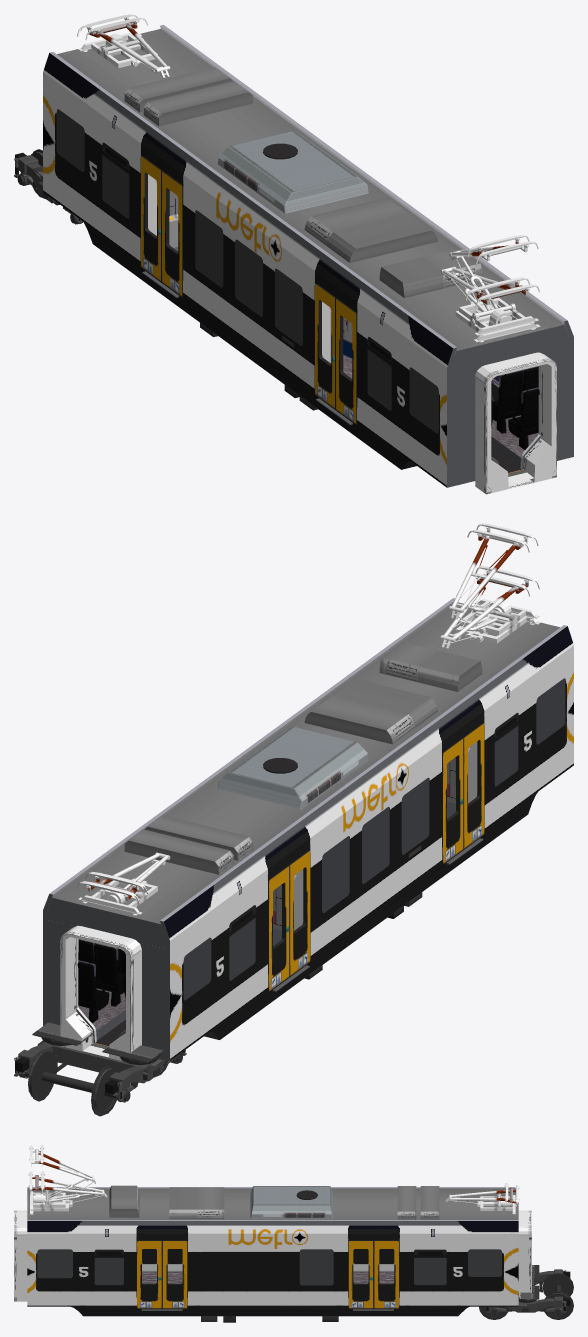
File: ns_sng_civity_p_denhofmetro.obj
The picture shows the model from 3 angles, top to bottom: view 1: azimuth 30°, elevation 25°; view 2: azimuth 150°, elevation 25°; view 3: azimuth 270°, elevation 25°; orthographic projection. The views are drawn at different scales.
Visible parts, largest first — view 1: side, aircon, jibung, glass, back_out, mak, door_RF, door_RB, chairs, panto6m, panto, dt71 (+3 smaller); view 2: side, aircon, jibung, glass, back_out, dt71, mak, door_RF, door_RB, panto6m, chairs, panto (+3 smaller); view 3: side, aircon, jibung, glass, door_LB, door_LF, dt71, mak, panto6m, panto, badak, door_RB_in (+3 smaller).
Boxes of the visible parts, x1,y1,x2,y2 form: side: (43, 24, 573, 487); aircon: (77, 14, 482, 297); jibung: (57, 29, 564, 350); glass: (57, 109, 438, 433); back_out: (451, 324, 569, 486); mak: (475, 352, 556, 494); door_RF: (161, 170, 356, 424); door_RB: (140, 156, 335, 409); chairs: (491, 366, 539, 449); panto6m: (449, 235, 538, 336); panto: (440, 266, 540, 342); dt71: (14, 149, 86, 227); side: (43, 598, 573, 1060); aircon: (77, 642, 482, 915); jibung: (52, 602, 559, 924); glass: (183, 678, 565, 1000); back_out: (47, 898, 165, 1059); dt71: (14, 1022, 186, 1116); mak: (60, 925, 141, 1061); door_RF: (289, 723, 484, 976); door_RB: (268, 737, 463, 991); panto6m: (449, 523, 539, 635); chairs: (77, 939, 125, 1022); panto: (440, 566, 540, 648); side: (27, 1187, 518, 1316); aircon: (109, 1183, 519, 1219); jibung: (27, 1190, 518, 1219); glass: (37, 1249, 501, 1285); door_LB: (162, 1240, 399, 1308); door_LF: (137, 1240, 373, 1308); dt71: (479, 1265, 573, 1319); mak: (14, 1210, 531, 1301); panto6m: (29, 1145, 95, 1211); panto: (28, 1171, 107, 1214); badak: (142, 1272, 394, 1283); door_RB_in: (167, 1249, 394, 1271).
Size of the model in its own units: 3.08 by 5.74 by 18.39.
35 materials, 35 textured.
